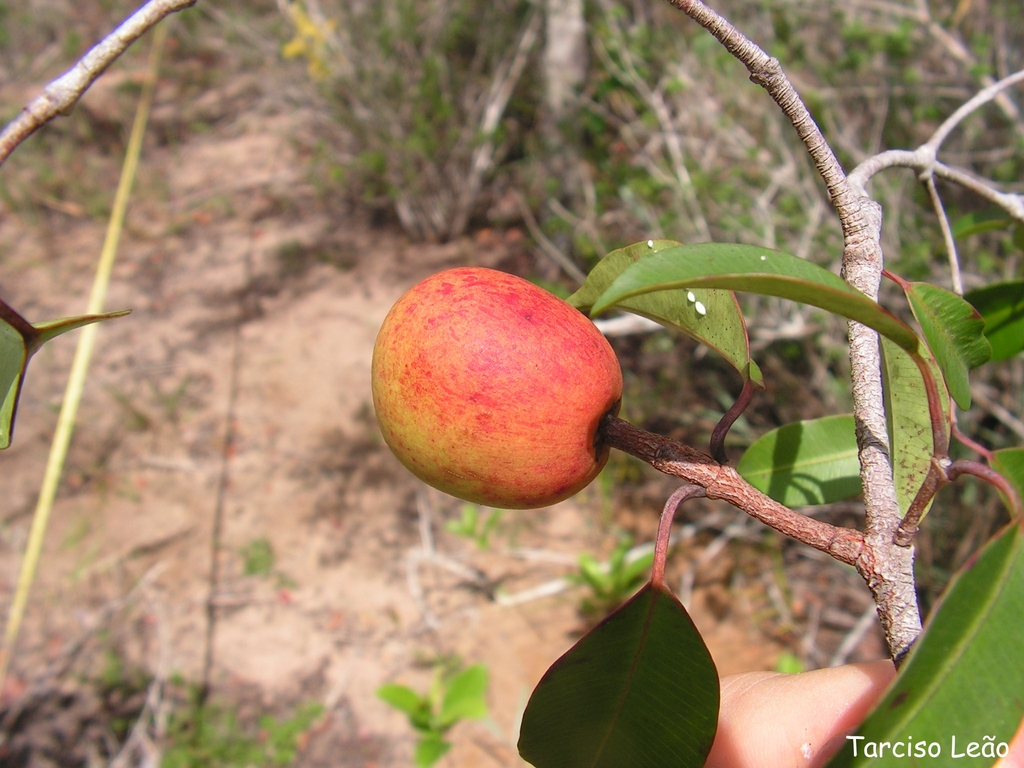Apple: (387, 265, 644, 514)
